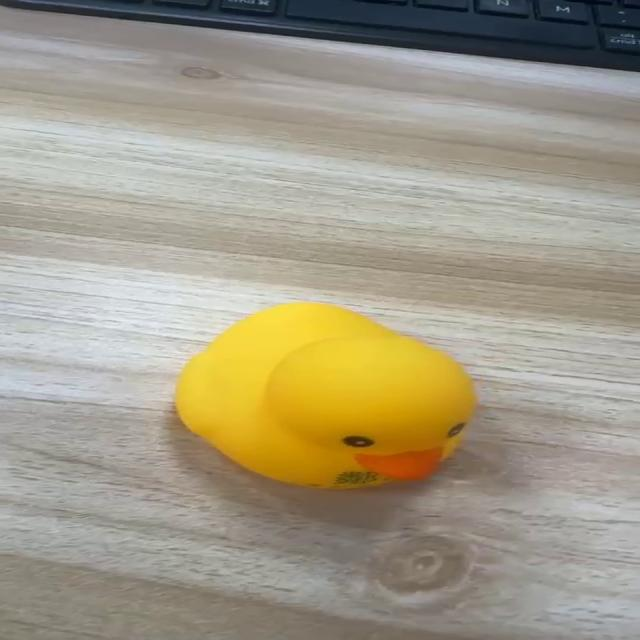yellow_duck: (172, 300, 478, 490)
